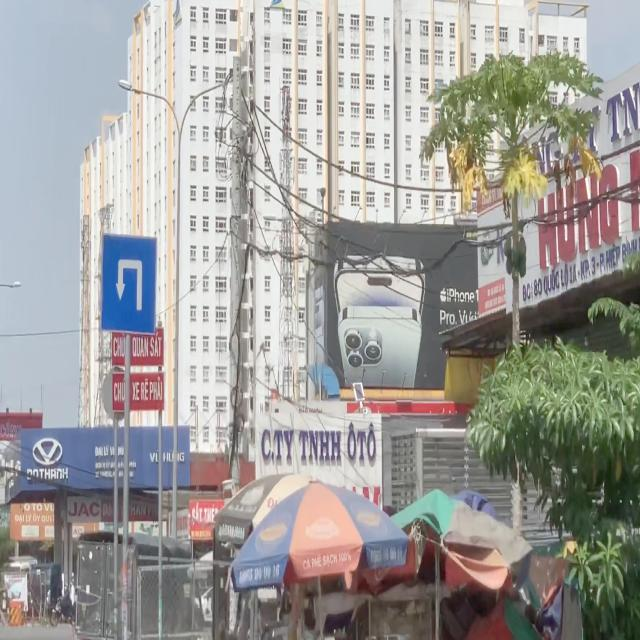Hieu lenh: (99, 231, 158, 338)
